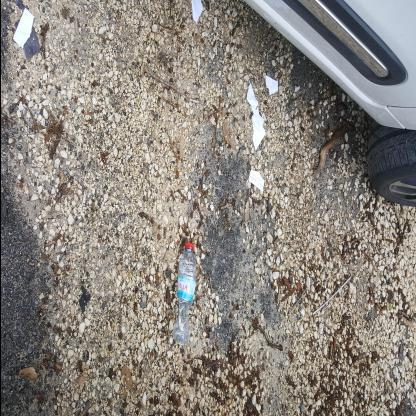plastik: (74, 172, 176, 197)
